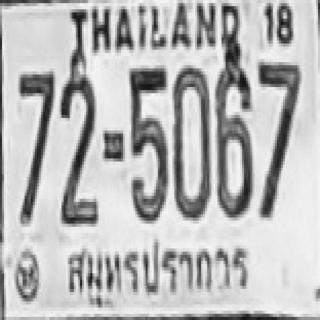N00: (171, 64, 210, 216)
N02: (58, 73, 96, 222)
N05: (127, 65, 166, 221)
N06: (214, 62, 251, 214)
N07: (256, 59, 300, 214), (18, 70, 54, 222), (256, 59, 300, 168)
P57: (62, 236, 254, 311)
